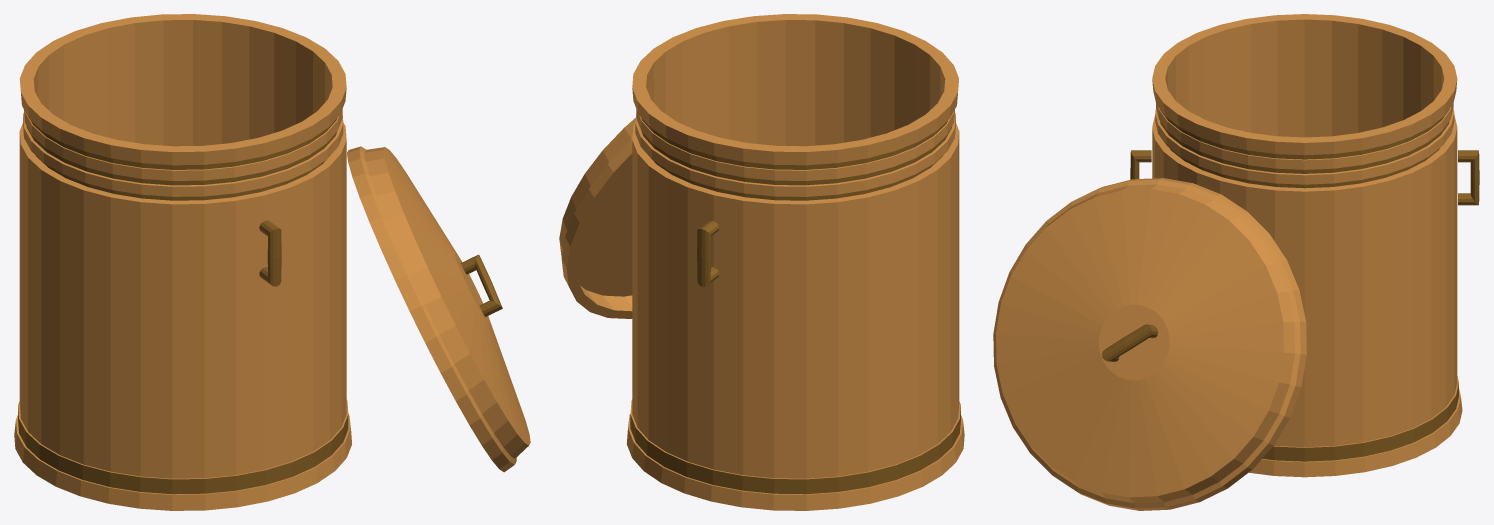
File: Dustbin.fbx
The picture shows the model from 3 angles, left to right: view 1: azimuth 30°, elevation 25°; view 2: azimuth 150°, elevation 25°; view 3: azimuth 270°, elevation 25°; orthographic projection. The views are drawn at different scales.
Parts seen in each view (by area): view 1: Bin, Bin Lid; view 2: Bin, Bin Lid; view 3: Bin, Bin Lid.
Part boxes in pixels (left/top/right/bottom): Bin: left=14, top=14, right=351, bottom=510; Bin Lid: left=347, top=146, right=530, bottom=472; Bin: left=626, top=14, right=964, bottom=510; Bin Lid: left=559, top=118, right=635, bottom=318; Bin: left=1130, top=14, right=1479, bottom=477; Bin Lid: left=993, top=178, right=1306, bottom=510.
Size of the model in its own units: 2.9 by 2.4 by 3.19.
